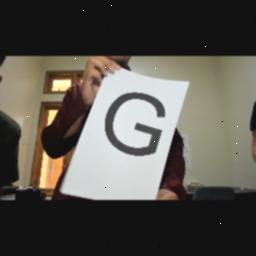g: (103, 84, 167, 158)
